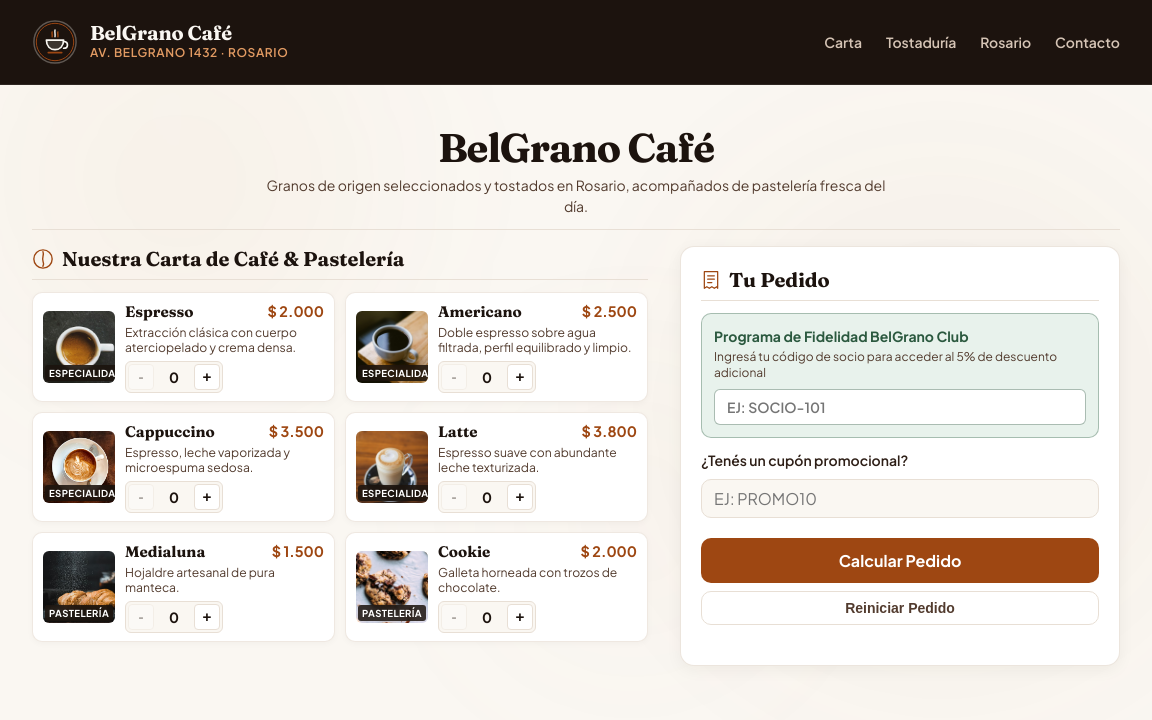
Test: BelGrano Café - Responsive & Visual Integrity Tests › Verifica ausencia total de emojis en el DOM
Expected: the heading "BelGrano Café" is shown, [438,123,714,172]
Click the button with test id "btn-inc-cappuccino".
click(207, 497)  # box [194,484,220,510]
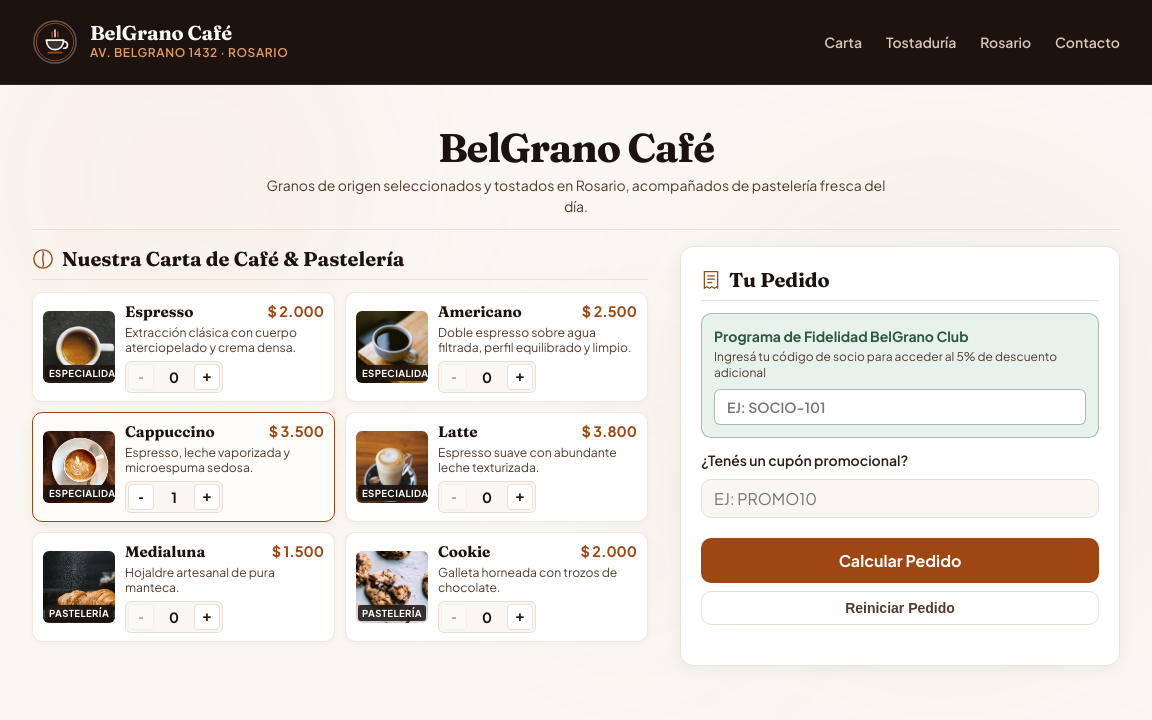
Click the button with test id "btn-calculate".
click(900, 561)  # box [701,538,1099,583]
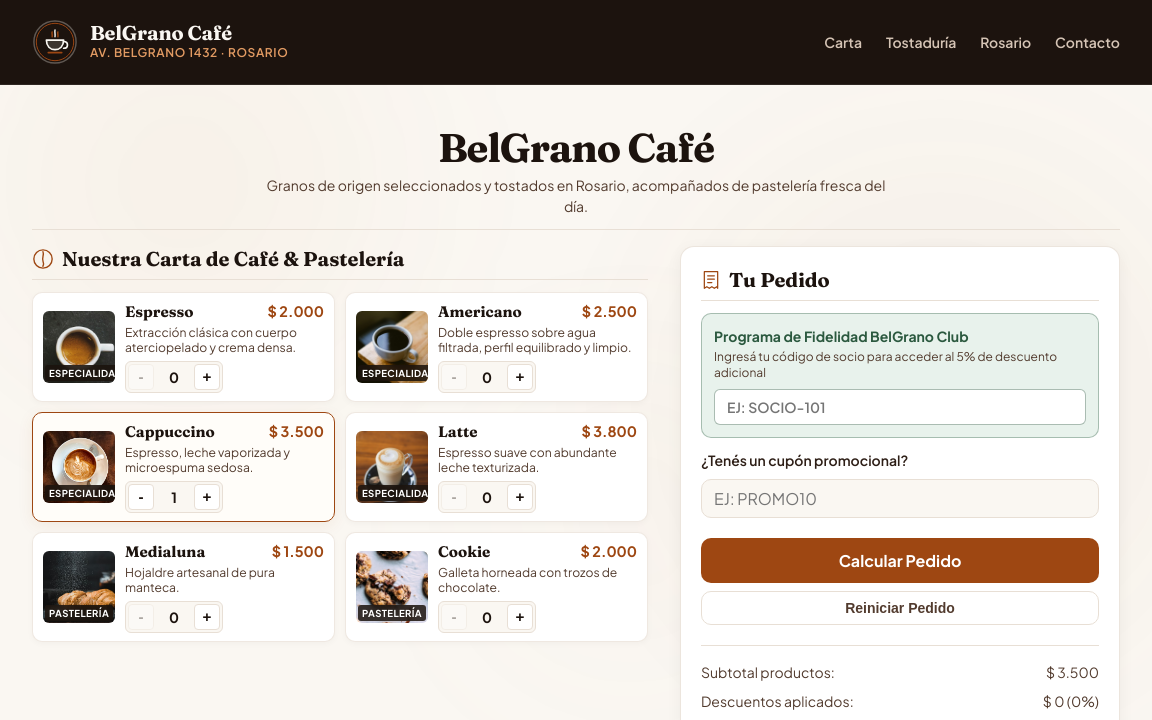
Now the element with test id "order-receipt" is shown, box [701,645,1099,719]
